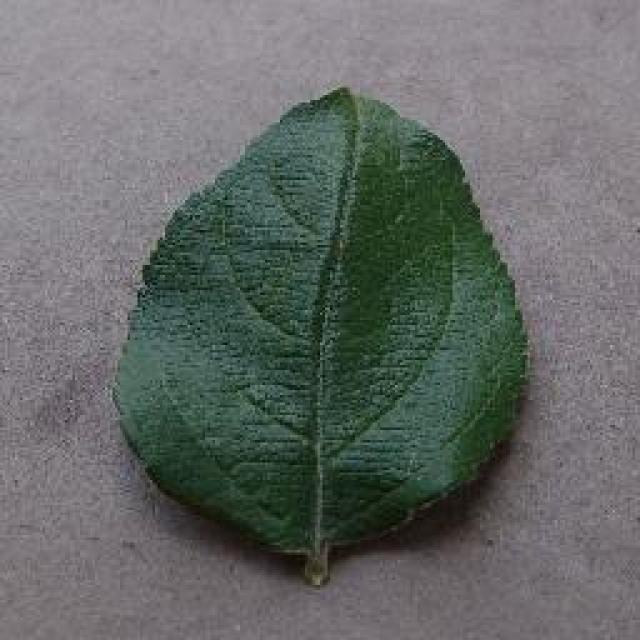apple scab disease: (110, 83, 530, 585)
